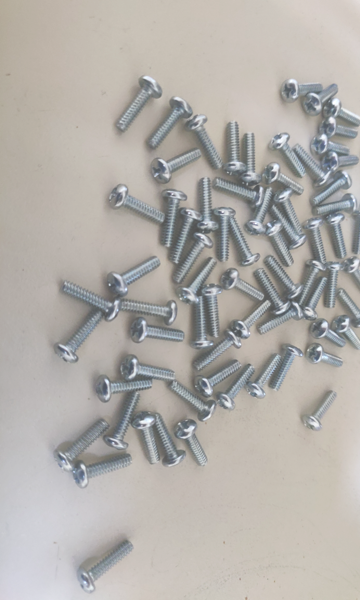shortscrew: (54, 419, 110, 472), (77, 542, 134, 594), (115, 76, 163, 134), (59, 280, 122, 323), (55, 309, 104, 363), (146, 96, 194, 150), (108, 184, 165, 225), (185, 114, 224, 170), (108, 256, 161, 297), (167, 380, 217, 423), (193, 329, 243, 372), (103, 392, 140, 450), (72, 454, 133, 489), (173, 232, 214, 284), (150, 148, 202, 186), (215, 363, 256, 411), (192, 360, 242, 398), (264, 255, 305, 301), (170, 208, 203, 264), (246, 352, 284, 400), (255, 268, 292, 317), (269, 133, 308, 179), (153, 413, 186, 467), (293, 143, 333, 187), (270, 203, 308, 249), (228, 214, 261, 266), (269, 343, 304, 392), (230, 299, 272, 339), (174, 419, 208, 468), (213, 177, 265, 209), (131, 412, 161, 467), (309, 170, 353, 207), (273, 188, 305, 238), (257, 302, 304, 336), (161, 189, 188, 248), (120, 355, 176, 383), (95, 376, 153, 403), (120, 299, 178, 326), (220, 268, 266, 302), (263, 162, 306, 196), (265, 220, 295, 268), (130, 317, 185, 343), (301, 391, 336, 431), (246, 186, 274, 236), (196, 177, 220, 233), (299, 260, 327, 307), (224, 121, 247, 176), (300, 276, 328, 321), (303, 83, 340, 117), (214, 207, 236, 264), (302, 217, 327, 263), (322, 98, 360, 128), (325, 212, 348, 259), (309, 319, 346, 348), (280, 79, 324, 103), (313, 193, 357, 217), (335, 288, 360, 329), (305, 343, 345, 368), (331, 316, 360, 350), (310, 134, 353, 156), (320, 117, 359, 140), (322, 151, 360, 173), (342, 257, 360, 295), (352, 209, 360, 256)
